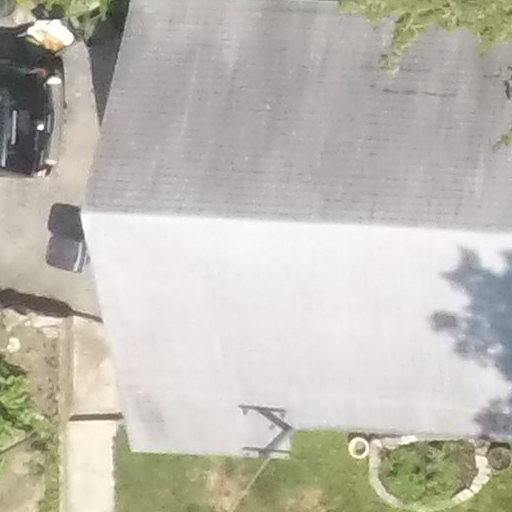container: (483, 443, 512, 477), (347, 433, 372, 463)
trash bin: (33, 230, 92, 284)
